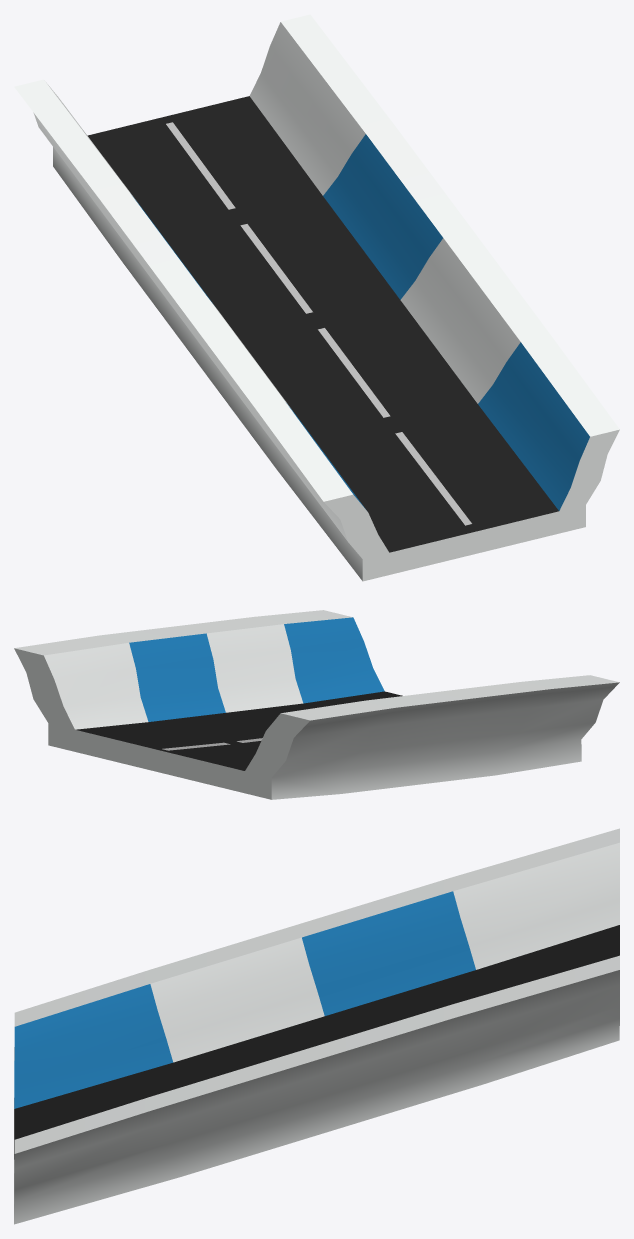
File: duong len doc blue.fbx
The picture shows the model from 3 angles, top to bottom: view 1: azimuth 30°, elevation 25°; view 2: azimuth 150°, elevation 25°; view 3: azimuth 270°, elevation 25°; orthographic projection. The views are drawn at different scales.
Visible parts, largest first — view 1: duong_len_doc1; view 2: duong_len_doc1; view 3: duong_len_doc1.
Part boxes in pixels (box(x1,y1,x2,y2)): duong_len_doc1: box(14, 14, 619, 581); duong_len_doc1: box(14, 610, 619, 799); duong_len_doc1: box(14, 828, 619, 1224).
Bounding box in the file's own units: 20.94 × 18.72 × 37.92.
Materials: 1 (1 with a texture image).
